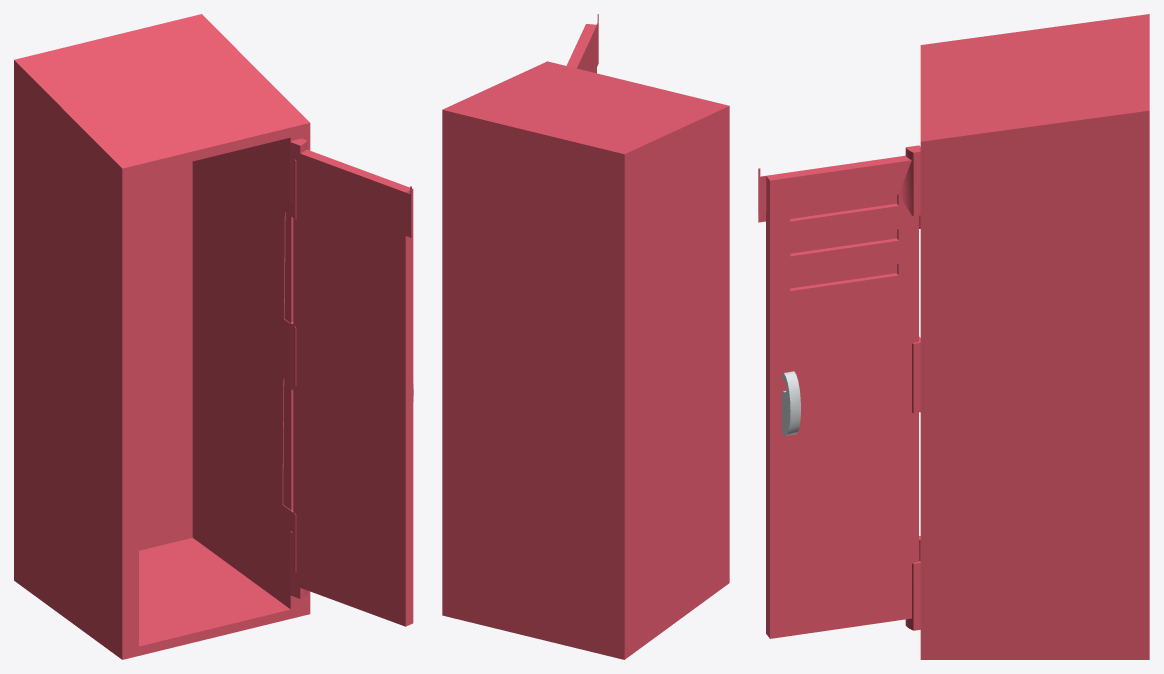
The model's file is locker_opened.glb.
3 renders of one model, left to right at view 1: azimuth 30°, elevation 25°; view 2: azimuth 150°, elevation 25°; view 3: azimuth 270°, elevation 25°, orthographic. The views are drawn at different scales.
Visible parts, largest first — view 1: Object_3, Object_3.002; view 2: Object_3, Object_3.002; view 3: Object_3, Object_3.002, Object_2.
Boxes of the visible parts, box(x1,y1,x2,y2) form: Object_3: box(14, 14, 310, 659); Object_3.002: box(290, 138, 413, 626); Object_3: box(442, 61, 729, 659); Object_3.002: box(566, 14, 598, 73); Object_3: box(919, 14, 1149, 659); Object_3.002: box(758, 145, 920, 638); Object_2: box(781, 371, 800, 435).
Size of the model in its own units: 24.47 by 53 by 34.2.
